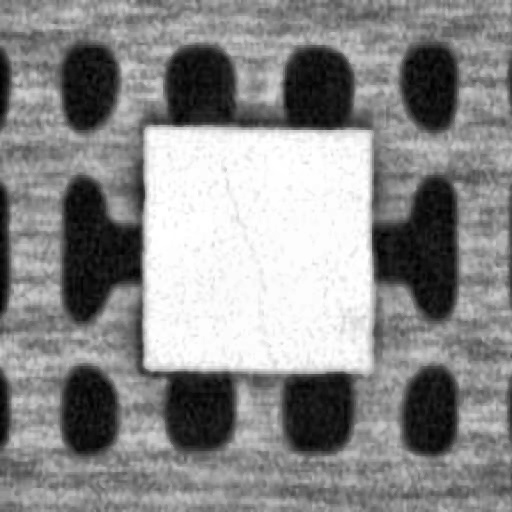DIE_CRACK: (220, 165, 274, 366)
